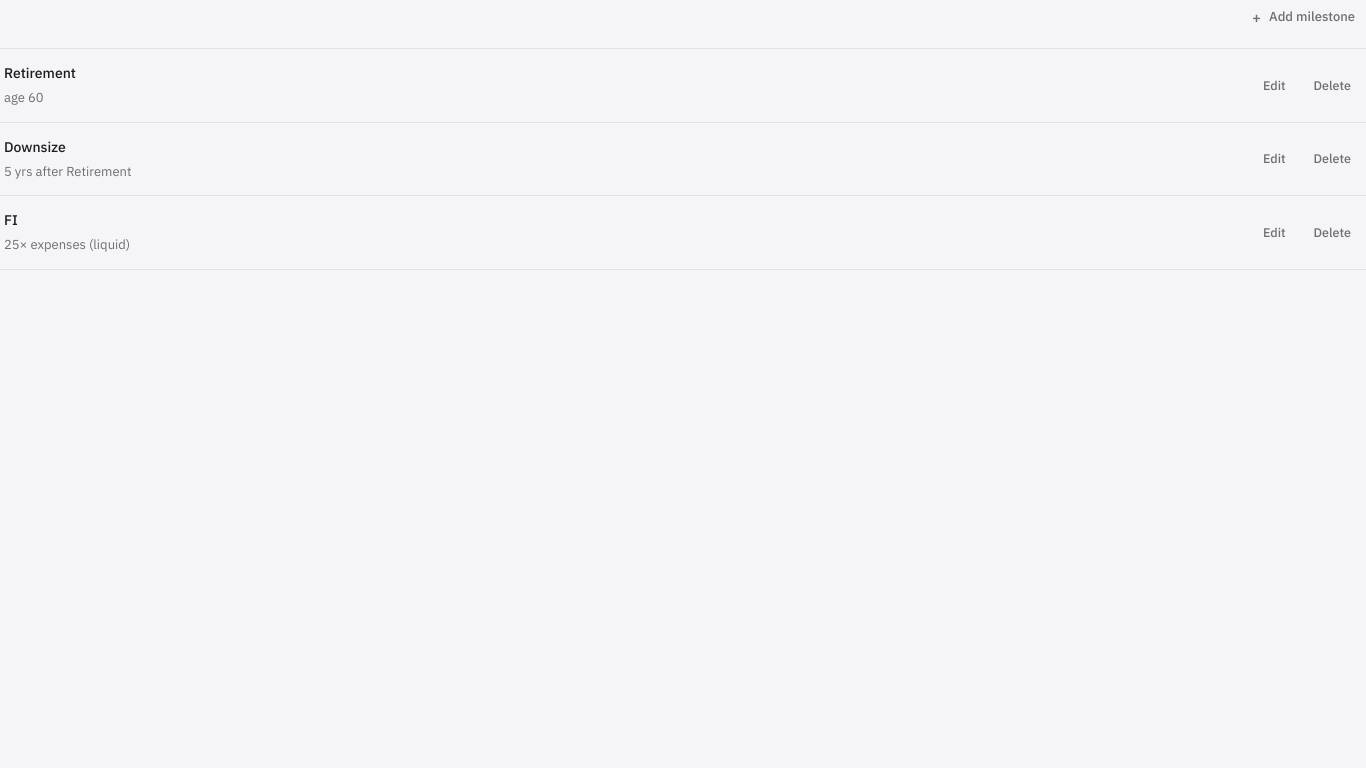
lists linked inputs under Edit milestone, and names an unlinked one's empty state
Step 1. Click the button "Edit" in the row of "age 60" → (1274, 85), box [1252,70,1297,100]
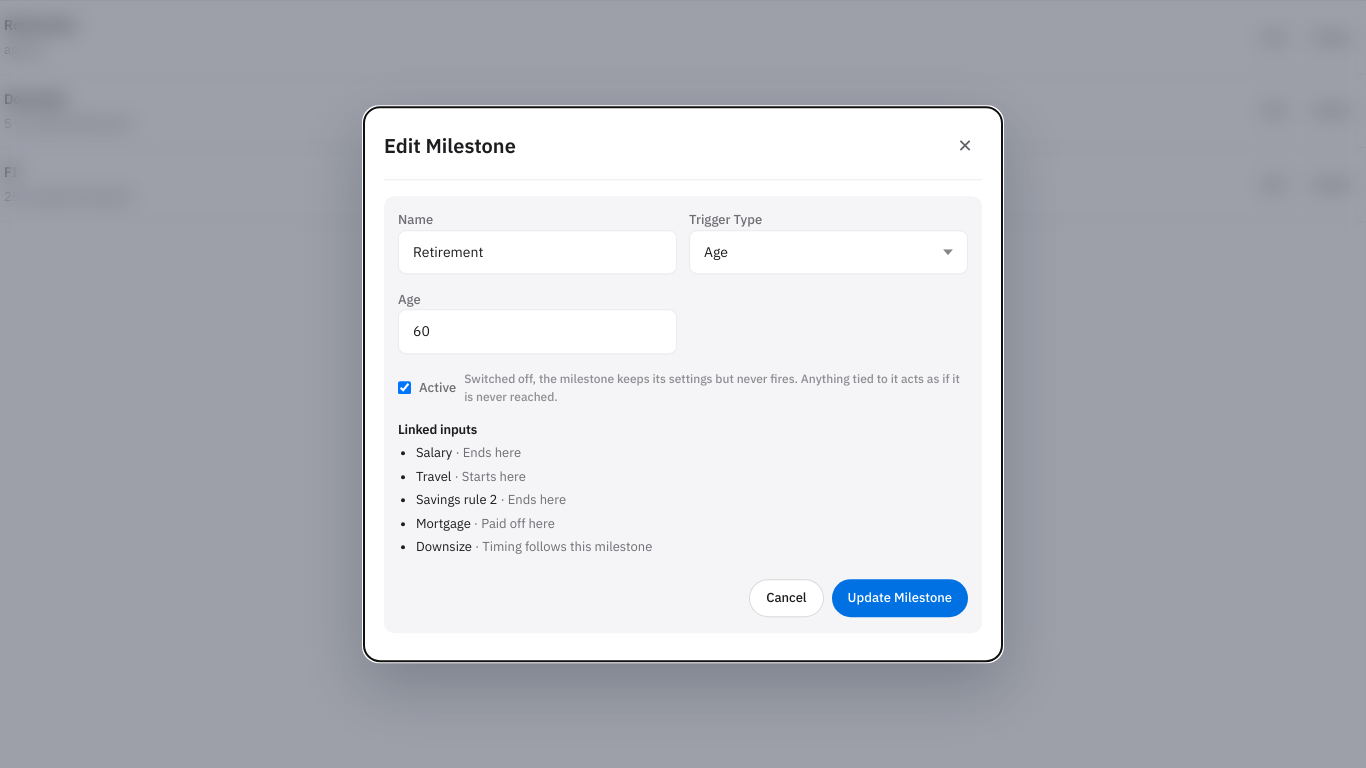
Result: the list items read "Salary · Ends here", "Travel · Starts here", "Savings rule 2 · Ends here", "Mortgage · Paid off here", "Downsize · Timing follows this milestone", in this order at [416,444,521,461]; [416,468,526,485]; [416,491,566,508]; [416,515,555,532]; [416,538,652,555]
Step 2. Click the button "Cancel" → (786, 598), box [749,579,824,617]
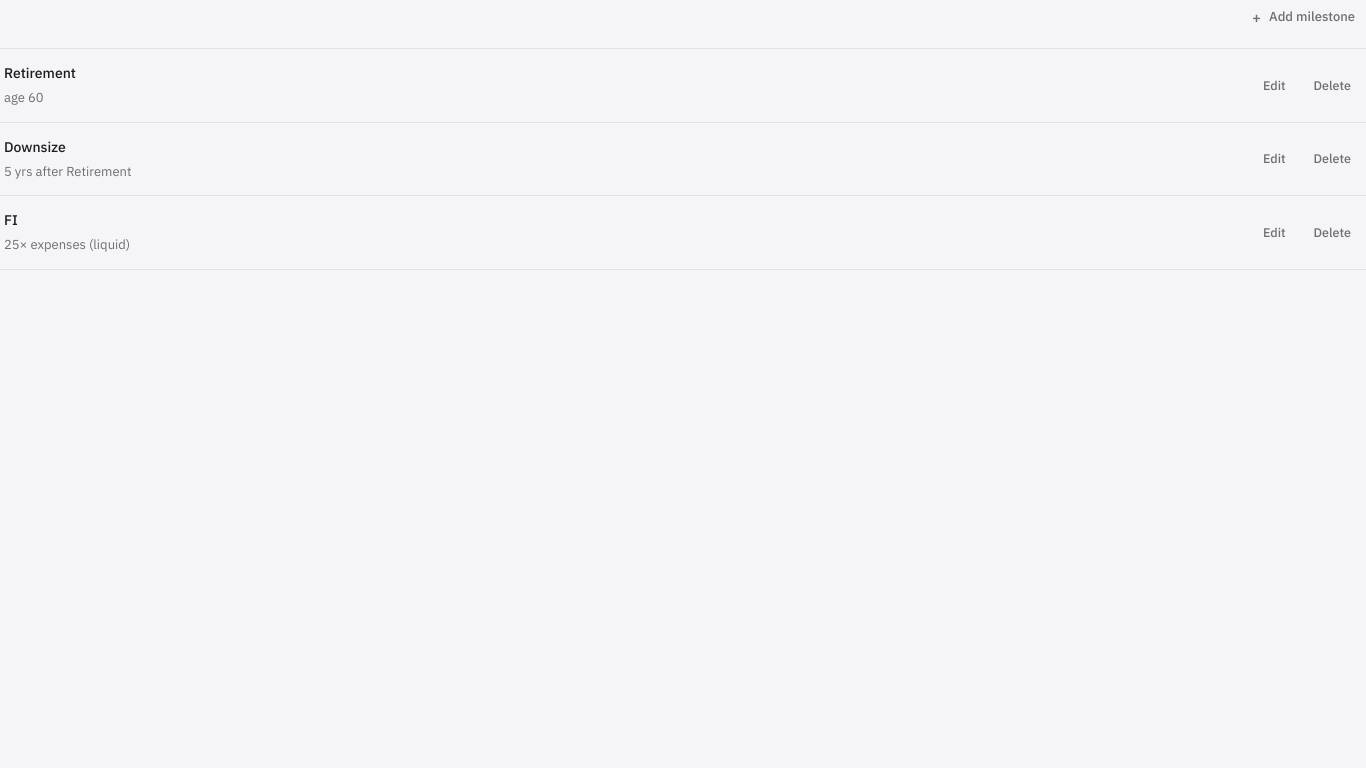
Step 3. Click the button "Edit" in the row of "25× expenses (liquid)" → (1274, 232), box [1252,217,1297,247]
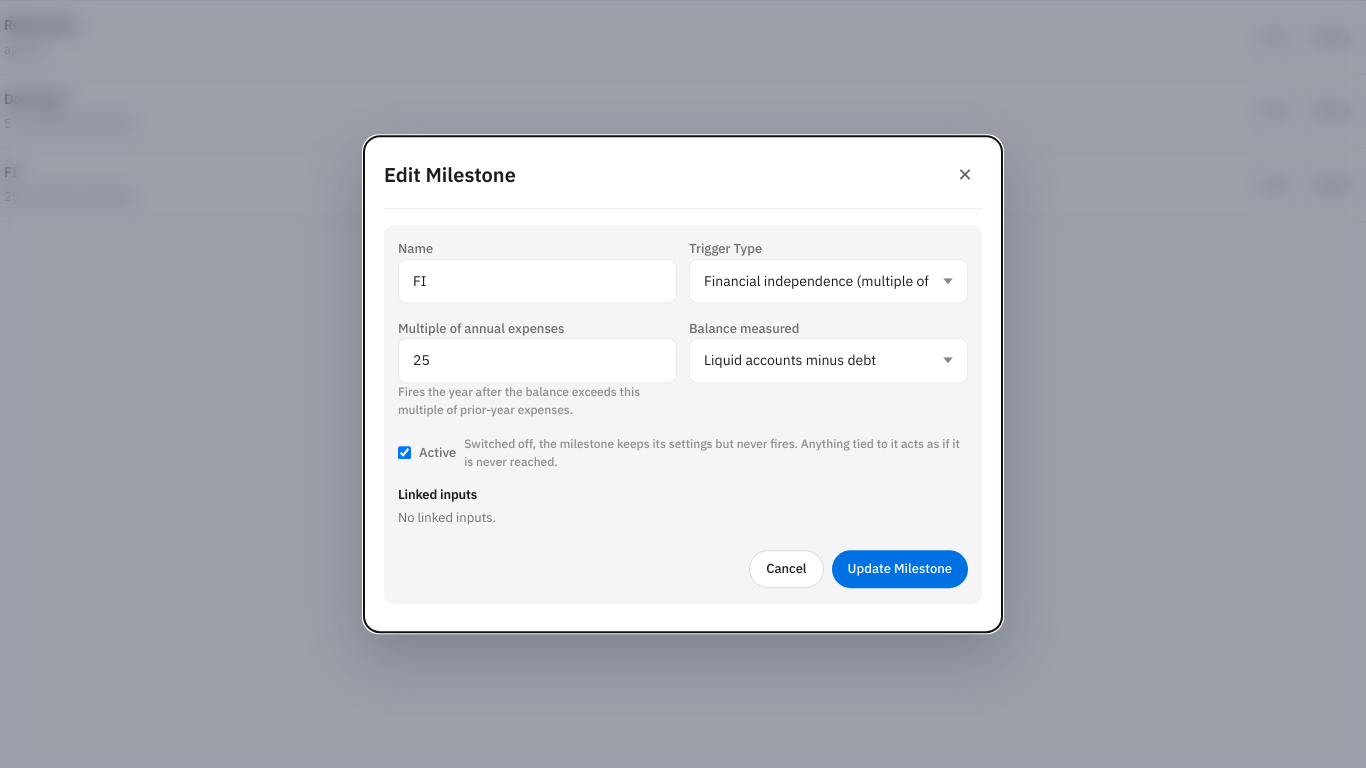
Result: the text "No linked inputs." is shown at [398,509,496,526]
